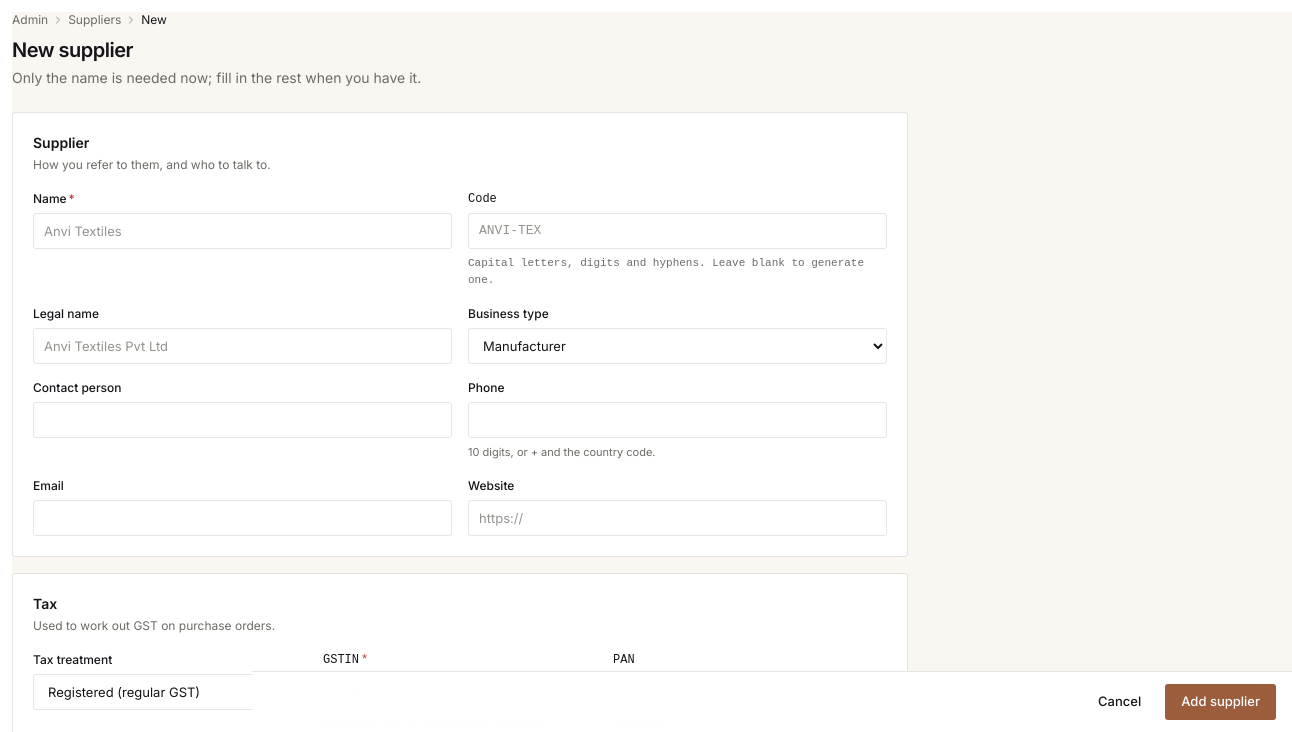
Test: AdminSupplierForm — create › shows an empty form that only needs a name (and a GSTIN while registered)
Expected: the heading "New supplier" is shown, [12,38,133,62]
Expected: the dropdown labelled "Tax treatment" shows "Registered (regular GST)", [33,674,307,710]
Click the button "Add supplier".
click(1221, 702)  # box [1165,684,1276,720]
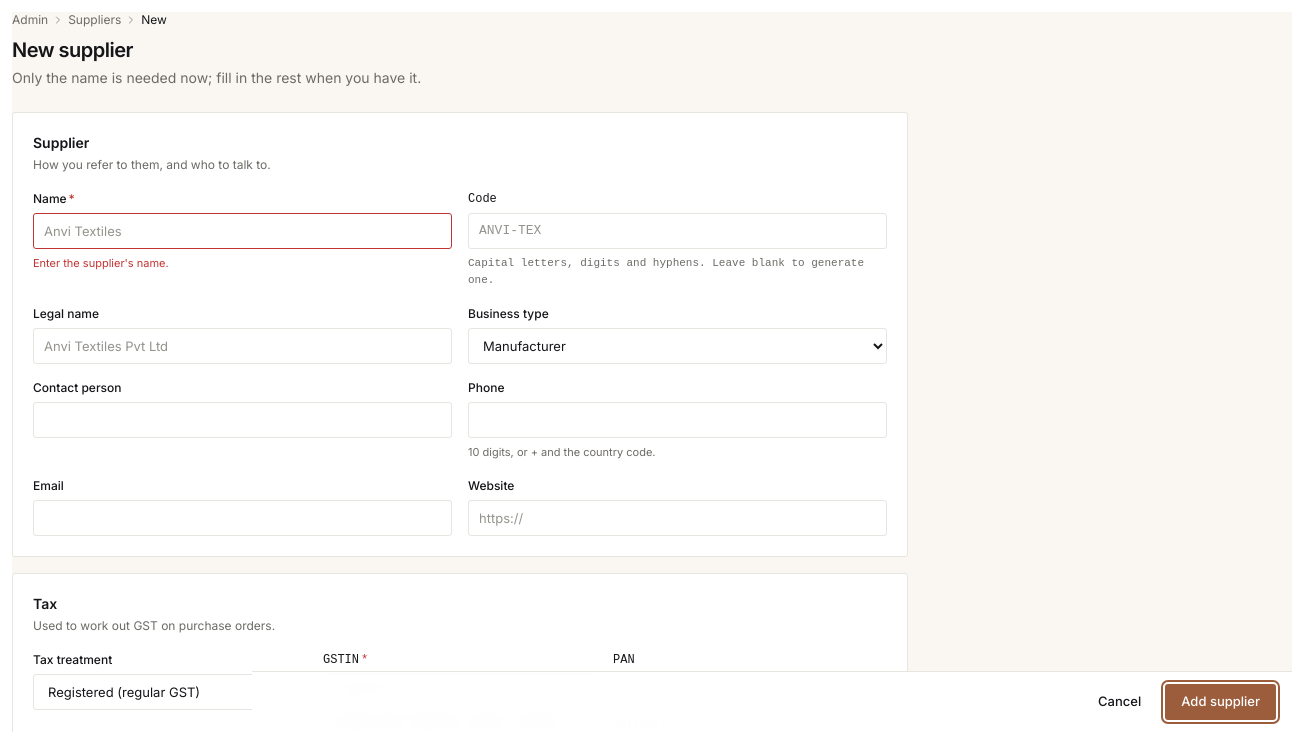
Expected: the message "Enter the supplier's name." is shown, [33,256,169,270]
